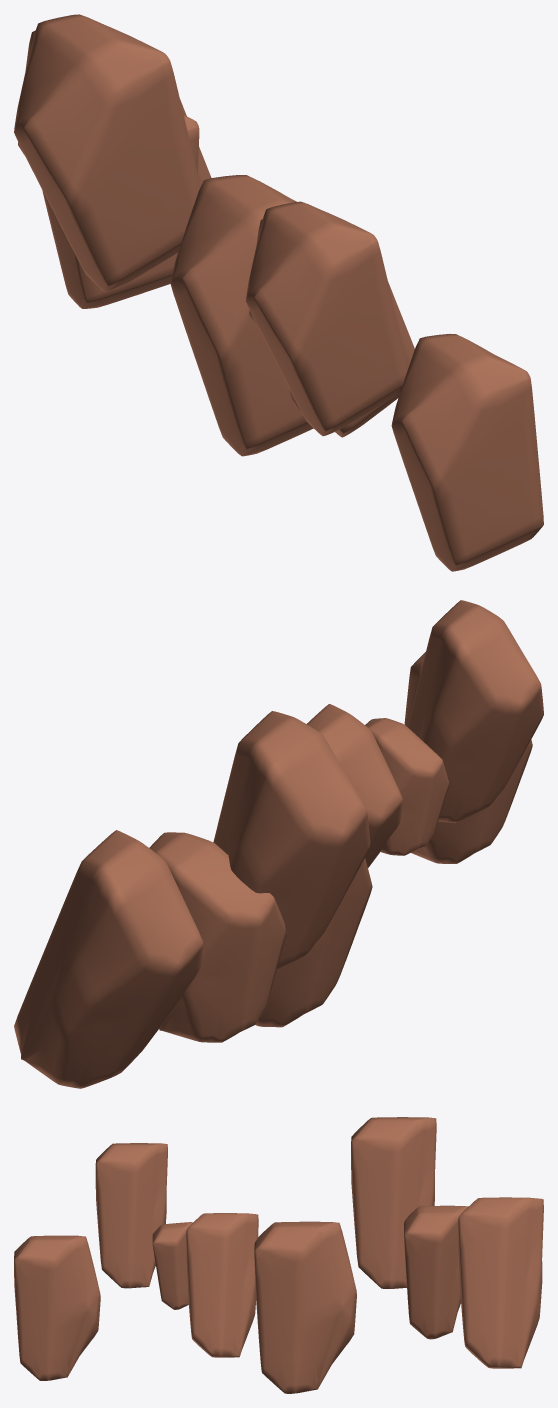
File: stones.FBX
The picture shows the model from 3 angles, top to bottom: view 1: azimuth 30°, elevation 25°; view 2: azimuth 150°, elevation 25°; view 3: azimuth 270°, elevation 25°; orthographic projection. The views are drawn at different scales.
Visible parts, largest first — view 1: stone3, stone8, stone7, stone4, stone2, stone5; view 2: stone1, stone3, stone7, stone2, stone4, stone6, stone5, stone8; view 3: stone4, stone1, stone3, stone8, stone5, stone7, stone2, stone6.
Boxes of the visible parts, x1=… form: stone3: x1=14, y1=14, x2=200, y2=292; stone8: x1=391, y1=334, x2=543, y2=571; stone7: x1=245, y1=201, x2=408, y2=436; stone4: x1=170, y1=175, x2=313, y2=456; stone2: x1=42, y1=115, x2=199, y2=308; stone5: x1=249, y1=219, x2=414, y2=437; stone1: x1=14, y1=830, x2=203, y2=1088; stone3: x1=213, y1=711, x2=370, y2=969; stone7: x1=407, y1=600, x2=543, y2=823; stone2: x1=149, y1=832, x2=285, y2=1042; stone4: x1=255, y1=858, x2=372, y2=1027; stone6: x1=365, y1=718, x2=449, y2=855; stone5: x1=307, y1=704, x2=402, y2=867; stone8: x1=404, y1=652, x2=532, y2=863; stone4: x1=254, y1=1221, x2=356, y2=1393; stone1: x1=458, y1=1197, x2=543, y2=1368; stone3: x1=351, y1=1117, x2=436, y2=1288; stone8: x1=14, y1=1235, x2=100, y2=1380; stone5: x1=186, y1=1213, x2=258, y2=1357; stone7: x1=95, y1=1143, x2=167, y2=1288; stone2: x1=404, y1=1205, x2=468, y2=1339; stone6: x1=152, y1=1222, x2=192, y2=1309.
Bounding box in the file's own units: 33.35 × 43.6 × 87.4.
